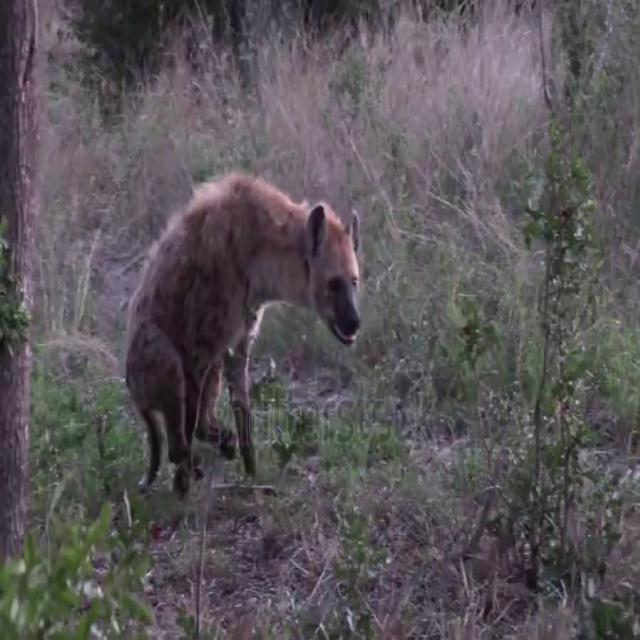normal_animals: (121, 167, 365, 503)
